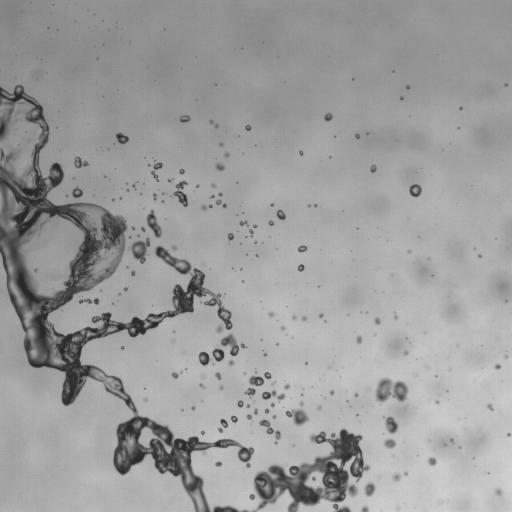droplet: (375, 377, 408, 403), (285, 402, 309, 425), (128, 238, 149, 263), (384, 416, 398, 433), (409, 184, 421, 197), (74, 156, 88, 167), (364, 482, 375, 496), (218, 418, 228, 432), (116, 132, 128, 143), (384, 438, 395, 448), (72, 187, 82, 197), (276, 209, 285, 219), (179, 115, 190, 122), (392, 473, 401, 481), (324, 113, 332, 121), (428, 457, 436, 465), (215, 163, 224, 170), (298, 245, 307, 252), (494, 488, 502, 495), (240, 220, 248, 226), (370, 165, 376, 172), (227, 233, 233, 240), (298, 264, 304, 271), (374, 317, 380, 324), (171, 372, 178, 378), (215, 372, 221, 379), (237, 400, 243, 407), (356, 335, 361, 343), (487, 404, 493, 410), (231, 416, 237, 422), (361, 506, 368, 511), (245, 125, 251, 130), (268, 312, 274, 317), (494, 364, 500, 369), (284, 384, 290, 389), (215, 461, 221, 466), (171, 245, 176, 250), (228, 360, 233, 365), (246, 414, 251, 419), (249, 229, 253, 235), (225, 152, 229, 157), (179, 169, 184, 173), (211, 183, 215, 188), (268, 221, 273, 225), (302, 316, 306, 321), (280, 326, 285, 330), (317, 405, 321, 410), (355, 134, 359, 138), (253, 224, 257, 228), (141, 227, 145, 231), (131, 271, 135, 275), (319, 313, 323, 317), (200, 384, 204, 388), (330, 390, 334, 394), (354, 393, 358, 397), (153, 194, 156, 199), (291, 316, 296, 319), (254, 409, 257, 414), (406, 85, 409, 89), (219, 143, 223, 146), (299, 151, 302, 155), (168, 179, 172, 182), (218, 192, 221, 196), (210, 195, 214, 198), (271, 402, 274, 406), (265, 409, 268, 413), (450, 438, 453, 442), (478, 254, 481, 257), (124, 287, 127, 290), (404, 351, 407, 354), (272, 381, 275, 384), (201, 431, 204, 434), (404, 472, 407, 475), (400, 97, 403, 99), (459, 107, 462, 109), (271, 203, 273, 206), (121, 346, 123, 349), (264, 353, 266, 356), (220, 386, 222, 389), (144, 398, 146, 401), (436, 400, 438, 403), (247, 404, 249, 407), (191, 407, 194, 409), (273, 415, 275, 418), (28, 138, 30, 140), (196, 185, 198, 187), (133, 186, 135, 188), (308, 205, 310, 207), (132, 227, 134, 229), (34, 269, 36, 271), (505, 356, 507, 358), (508, 434, 510, 436)
ligament: (0, 87, 359, 511), (198, 334, 246, 365), (245, 370, 271, 397), (259, 419, 280, 443), (146, 210, 161, 237), (174, 180, 187, 206), (262, 390, 285, 402), (151, 162, 162, 180), (79, 298, 98, 304), (216, 199, 226, 207), (201, 204, 211, 210), (210, 120, 218, 127), (394, 313, 397, 318)
